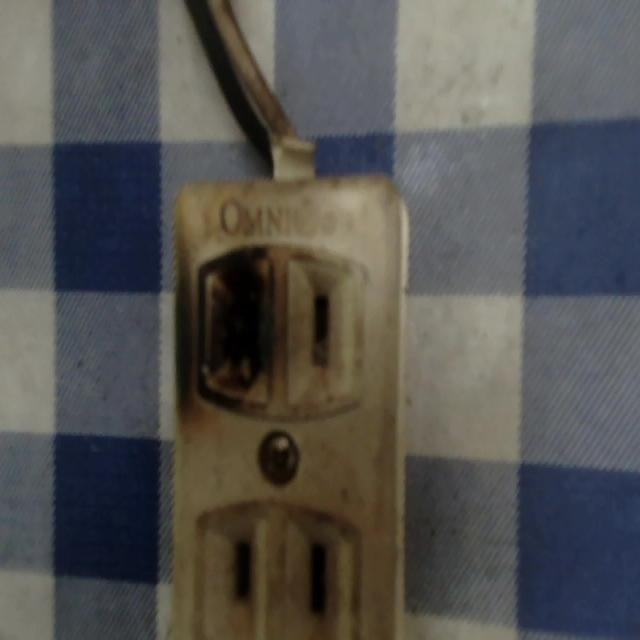-: (189, 244, 280, 425)
